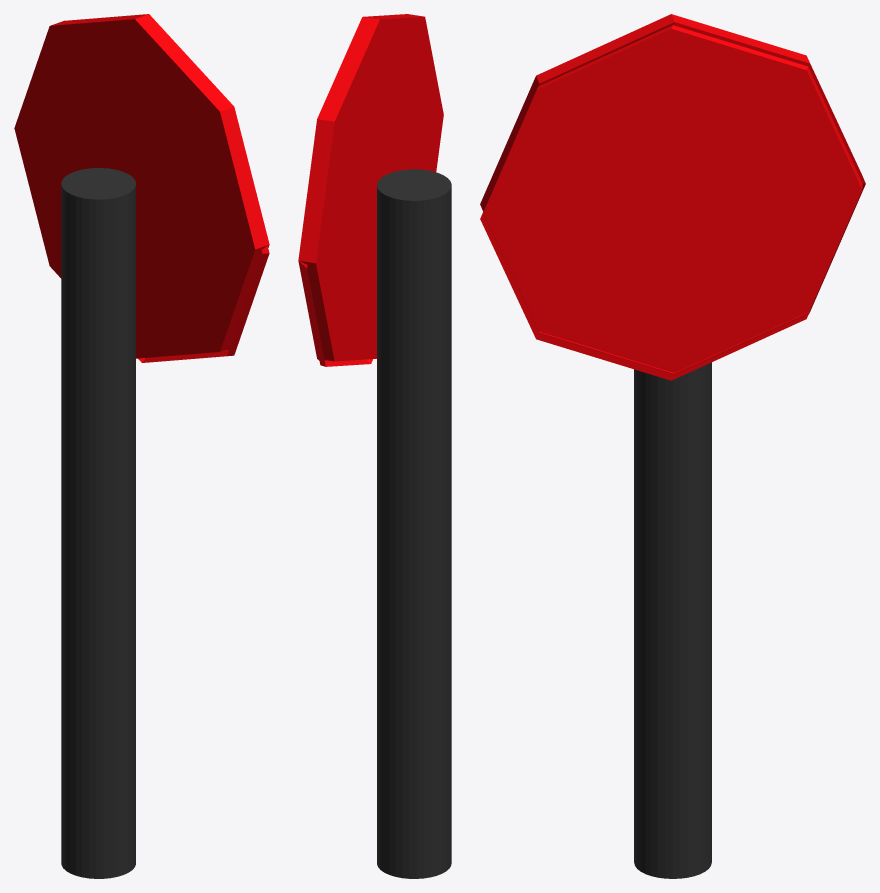
Rendered from StopSign.fbx.
3 renders of one model, left to right at view 1: azimuth 30°, elevation 25°; view 2: azimuth 150°, elevation 25°; view 3: azimuth 270°, elevation 25°, orthographic. The views are drawn at different scales.
Parts seen in each view (by area): view 1: Cylinder.001, Cylinder; view 2: Cylinder, Cylinder.001; view 3: Cylinder.001, Cylinder.
Part boxes in pixels (box(x1,y1,x2,y2)): Cylinder.001: box(14, 14, 269, 362); Cylinder: box(61, 168, 135, 878); Cylinder: box(377, 169, 451, 878); Cylinder.001: box(298, 14, 443, 366); Cylinder.001: box(480, 14, 865, 380); Cylinder: box(634, 362, 711, 878).
Bounding box in the file's own units: 17.24 × 123 × 49.67.
